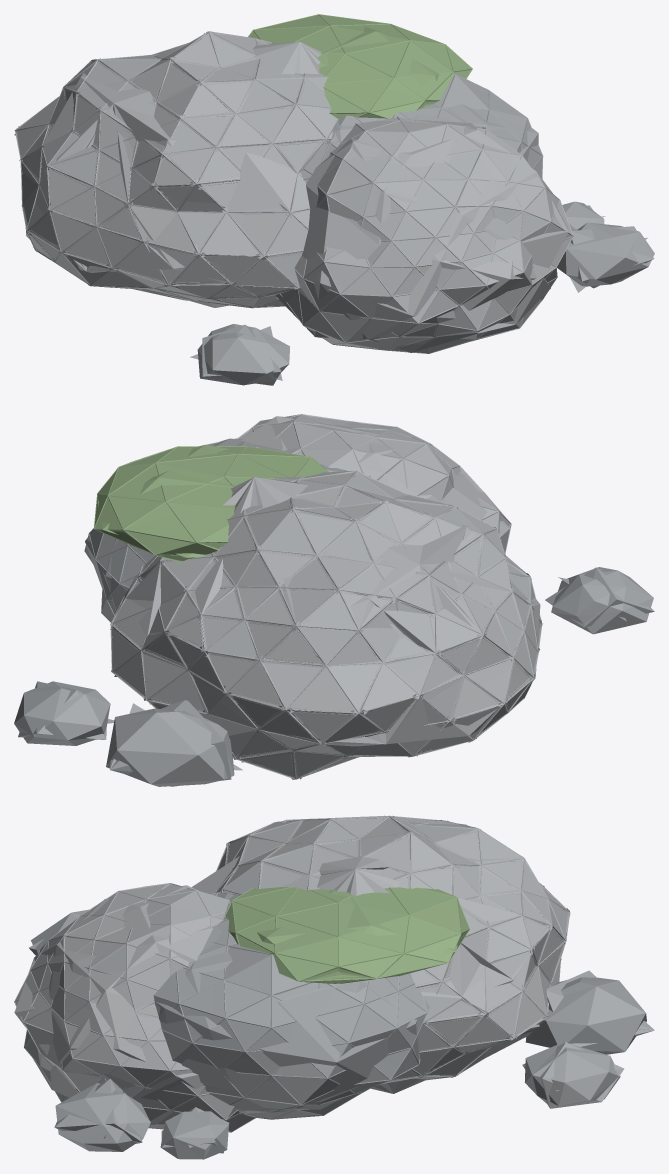
File: rock.glb
3 renders of one model, top to bottom at view 1: azimuth 30°, elevation 25°; view 2: azimuth 150°, elevation 25°; view 3: azimuth 270°, elevation 25°, orthographic. The views are drawn at different scales.
Parts seen in each view (by area): view 1: Rock_LOD2_mesh, Rock_LOD3_mesh, Rock_LOD0_mesh, Rock_LOD1_mesh; view 2: Rock_LOD2_mesh, Rock_LOD0_mesh, Rock_LOD3_mesh, Rock_LOD1_mesh; view 3: Rock_LOD2_mesh, Rock_LOD0_mesh, Rock_LOD3_mesh, Rock_LOD1_mesh.
Part boxes in pixels (x1=…): Rock_LOD2_mesh: x1=16, y1=15, x2=585, y2=352; Rock_LOD3_mesh: x1=21, y1=27, x2=647, y2=380; Rock_LOD0_mesh: x1=14, y1=14, x2=654, y2=385; Rock_LOD1_mesh: x1=15, y1=15, x2=654, y2=385; Rock_LOD2_mesh: x1=85, y1=415, x2=541, y2=777; Rock_LOD0_mesh: x1=14, y1=414, x2=653, y2=786; Rock_LOD3_mesh: x1=35, y1=416, x2=626, y2=770; Rock_LOD1_mesh: x1=18, y1=415, x2=654, y2=786; Rock_LOD2_mesh: x1=15, y1=816, x2=569, y2=1131; Rock_LOD0_mesh: x1=14, y1=815, x2=646, y2=1159; Rock_LOD3_mesh: x1=14, y1=816, x2=652, y2=1147; Rock_LOD1_mesh: x1=15, y1=815, x2=654, y2=1153.
Bounding box in the file's own units: 2.16 × 1 × 2.49.
